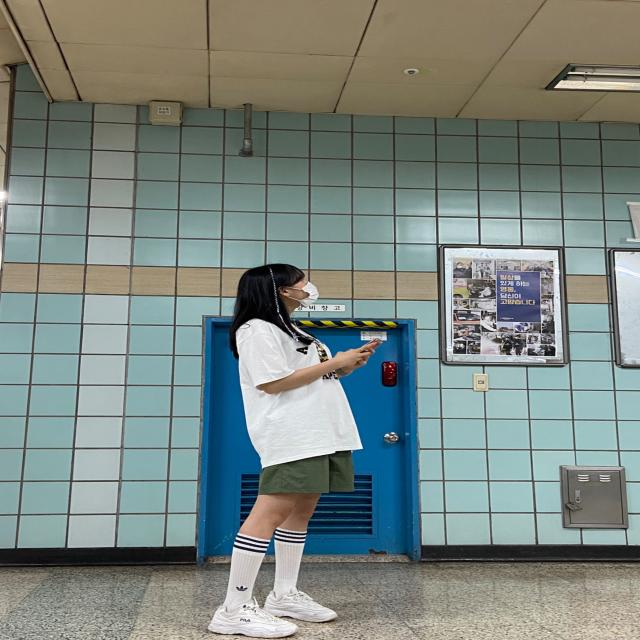shortpants: (255, 446, 352, 496)
shortsleeve: (236, 316, 360, 473)
